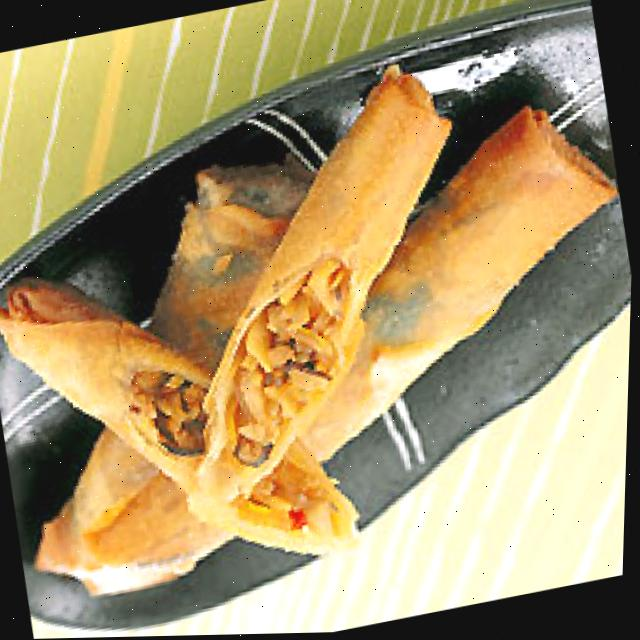鸡蛋料理: (0, 12, 639, 634)
